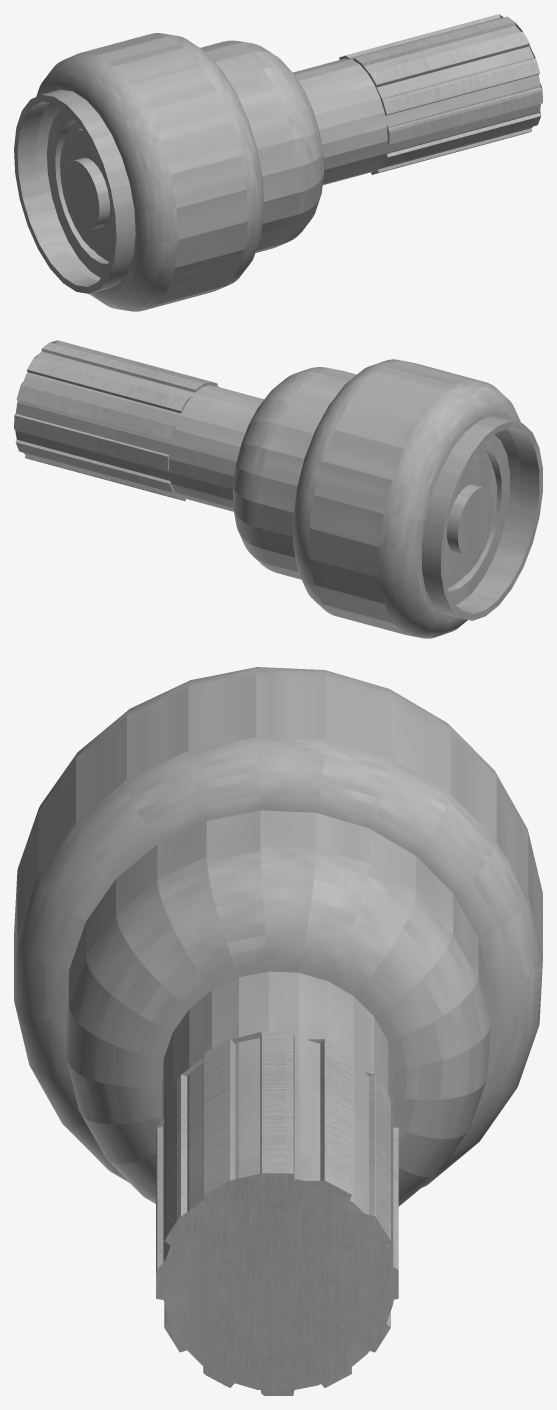
Rendered from scene 36 fix.fbx.
The picture shows the model from 3 angles, top to bottom: view 1: azimuth 30°, elevation 25°; view 2: azimuth 150°, elevation 25°; view 3: azimuth 270°, elevation 25°; orthographic projection. The views are drawn at different scales.
Parts seen in each view (by area): view 1: 1.003, 2; view 2: 1.003, 2; view 3: 1.003.
Part boxes in pixels (left/top/right/bottom): 1.003: left=14, top=14, right=542, bottom=311; 2: left=46, top=108, right=112, bottom=277; 1.003: left=14, top=340, right=542, bottom=638; 2: left=444, top=435, right=509, bottom=604; 1.003: left=14, top=667, right=542, bottom=1395.
Size of the model in its own units: 300 by 154 by 153.
3 materials, 3 textured.
